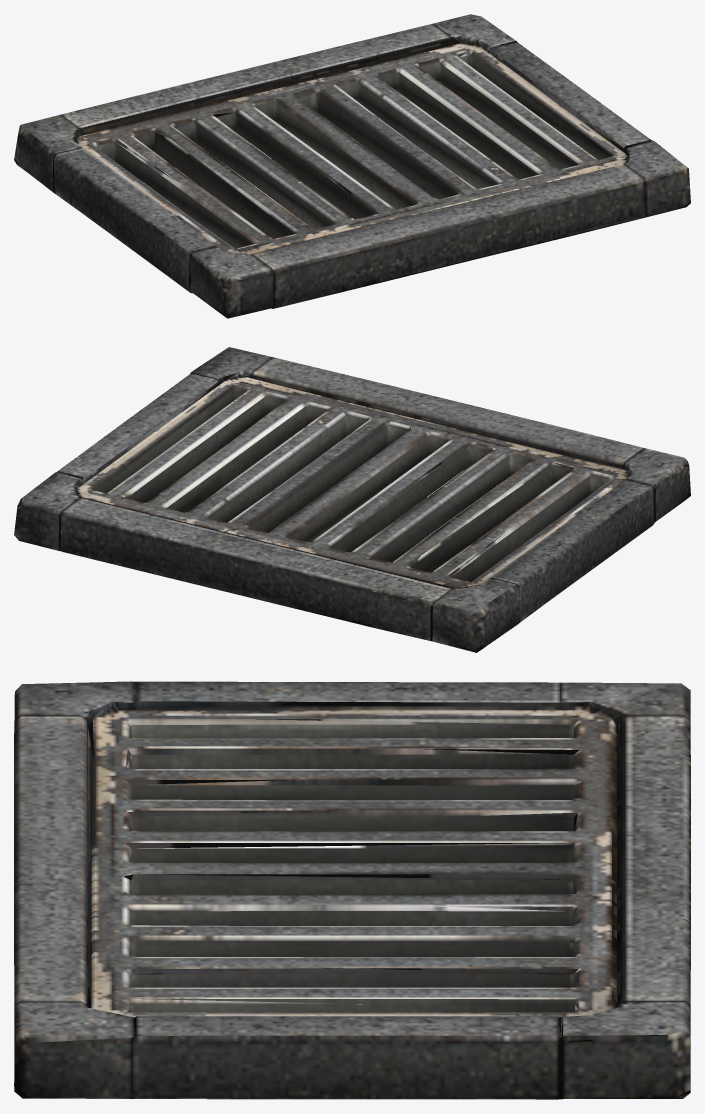
The model's file is kairox-storm-drain.glb.
3 views of the same model, one above another, from view 1: azimuth 30°, elevation 25°; view 2: azimuth 150°, elevation 25°; view 3: azimuth 270°, elevation 25° (orthographic). The views are drawn at different scales.
Visible parts, largest first — view 1: kairox-storm-drain; view 2: kairox-storm-drain; view 3: kairox-storm-drain.
Part boxes in pixels (x1,y1,x2,y2): kairox-storm-drain: (14, 14, 690, 318); kairox-storm-drain: (14, 347, 690, 652); kairox-storm-drain: (14, 681, 690, 1099).
Size of the model in its own units: 0.75 by 0.07 by 0.6.
Materials: 1 (1 with a texture image).
